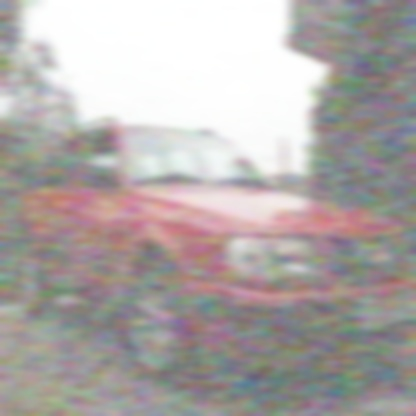Vehicle: (22, 119, 415, 390)
